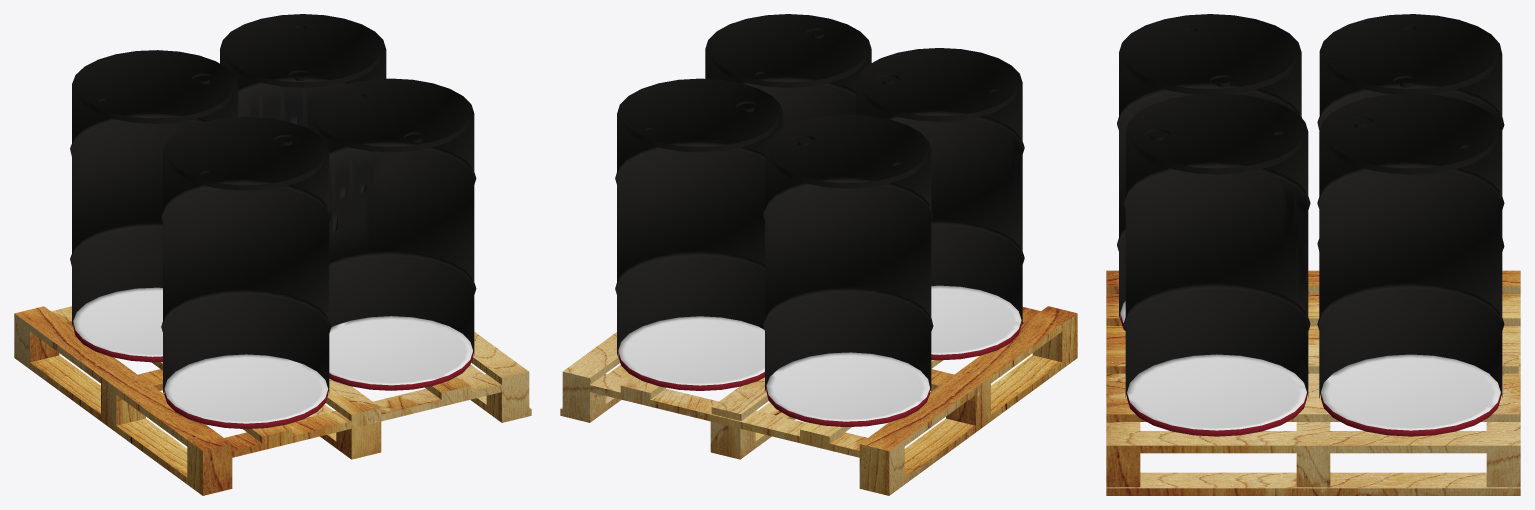
The model's file is oil.glb.
3 views of the same model, side by side, from view 1: azimuth 30°, elevation 25°; view 2: azimuth 150°, elevation 25°; view 3: azimuth 270°, elevation 25° (orthographic). The views are drawn at different scales.
Parts seen in each view (by area): view 1: C-Component#6.002, C-Component#6, C-Component#6.003, C-Pallet#1, C-Component#6.001; view 2: C-Component#6.003, C-Component#6.001, C-Component#6.002, C-Pallet#1, C-Component#6; view 3: C-Component#6, C-Component#6.001, C-Pallet#1, C-Component#6.002, C-Component#6.003.
Part boxes in pixels (<box>): C-Component#6.002: <box>161,117,331,428</box>; C-Component#6: <box>308,78,476,390</box>; C-Component#6.003: <box>70,50,238,362</box>; C-Pallet#1: <box>14,306,531,495</box>; C-Component#6.001: <box>220,14,386,128</box>; C-Component#6.003: <box>763,114,933,427</box>; C-Component#6.001: <box>615,78,783,390</box>; C-Component#6.002: <box>856,48,1024,360</box>; C-Pallet#1: <box>560,306,1077,495</box>; C-Component#6: <box>705,14,871,127</box>; C-Component#6: <box>1123,93,1310,436</box>; C-Component#6.001: <box>1317,93,1504,436</box>; C-Pallet#1: <box>1106,270,1520,495</box>; C-Component#6.002: <box>1117,14,1302,330</box>; C-Component#6.003: <box>1317,14,1504,251</box>.
Bounding box in the file's own units: 1.56 × 1.3 × 1.55.
Materials: 4 (1 with a texture image).
